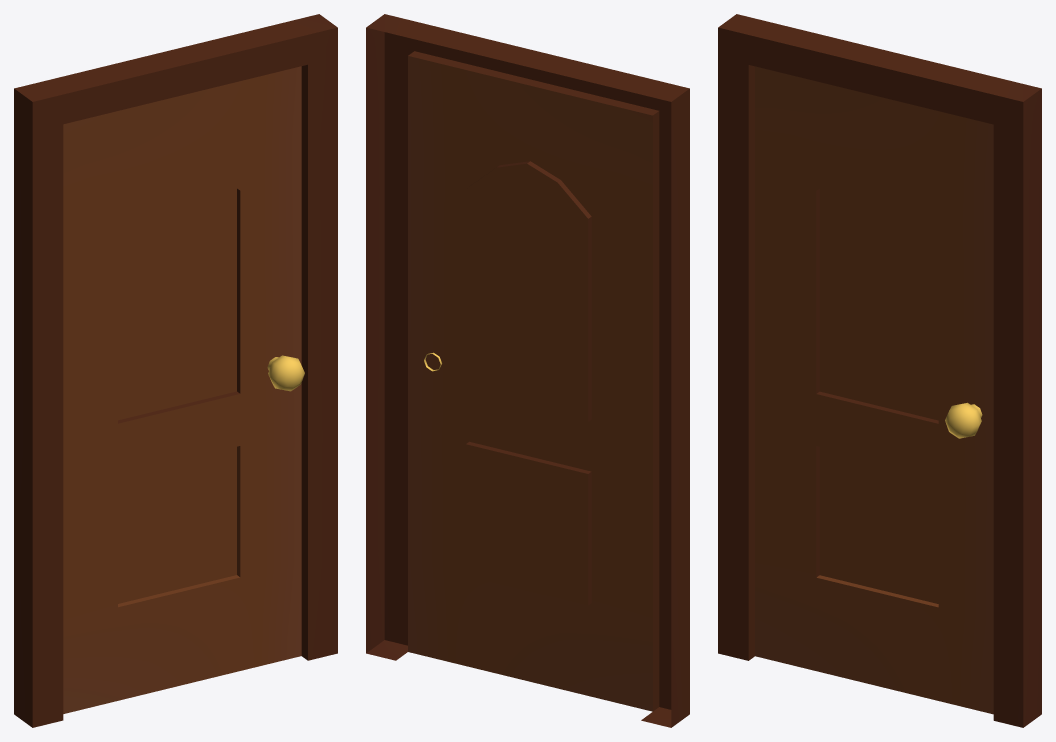
The model's file is Door.fbx.
3 views of the same model, side by side, from view 1: azimuth 30°, elevation 25°; view 2: azimuth 150°, elevation 25°; view 3: azimuth 330°, elevation 25° (orthographic).
Parts seen in each view (by area): view 1: Door; view 2: Door; view 3: Door.
Boxes of the visible parts, x1,y1,x2,y2 form: Door: (14, 14, 337, 727); Door: (366, 14, 689, 727); Door: (718, 14, 1041, 727).
Size of the model in its own units: 88.6 by 174 by 15.52.
1 material, 1 textured.
